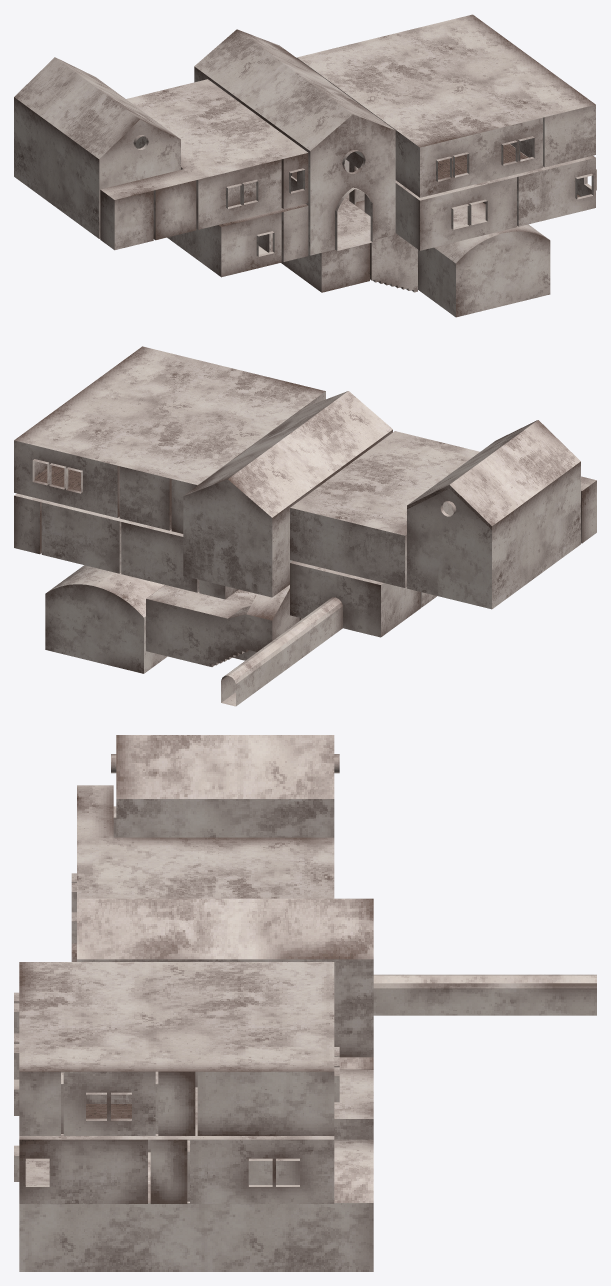
The model's file is mansions2.glb.
The picture shows the model from 3 angles, top to bottom: view 1: azimuth 30°, elevation 25°; view 2: azimuth 150°, elevation 25°; view 3: azimuth 270°, elevation 25°; orthographic projection. The views are drawn at different scales.
Visible parts, largest first — view 1: mansion-2-col; view 2: mansion-2-col; view 3: mansion-2-col.
Part boxes in pixels (left/top/right/bottom): mansion-2-col: left=14, top=14, right=596, bottom=317; mansion-2-col: left=14, top=346, right=596, bottom=706; mansion-2-col: left=14, top=735, right=596, bottom=1271.
Size of the model in its own units: 26 by 12.79 by 22.2.
1 material, 1 textured.
